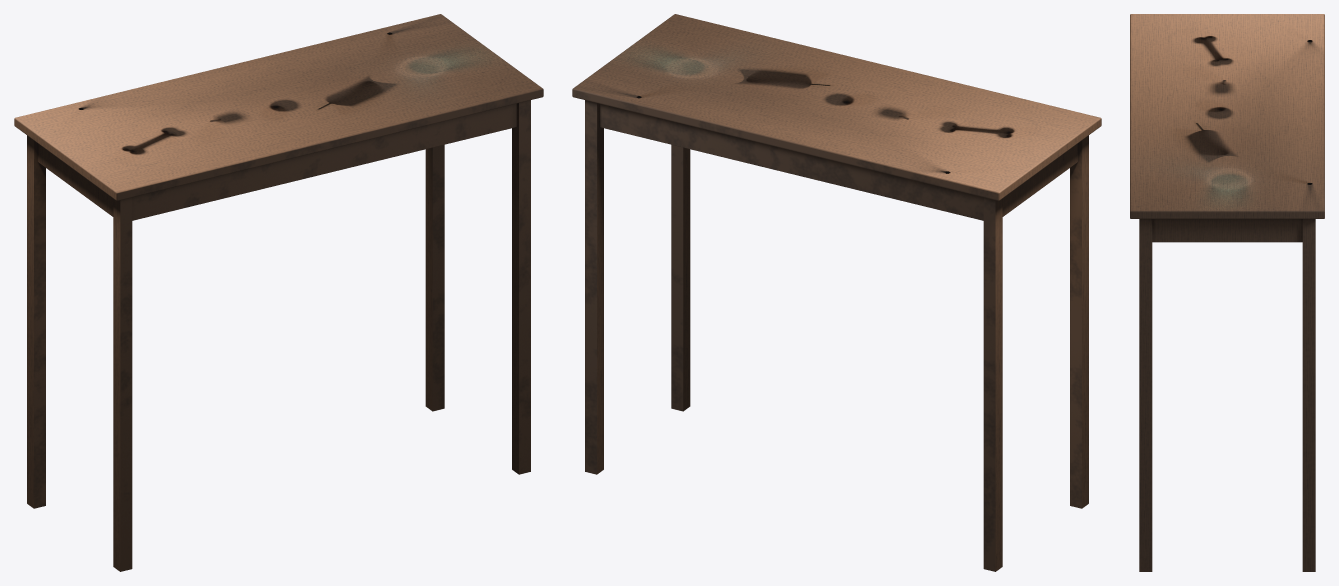
The model's file is 805_life.glb.
3 renders of one model, left to right at view 1: azimuth 30°, elevation 25°; view 2: azimuth 150°, elevation 25°; view 3: azimuth 270°, elevation 25°, orthographic. The views are drawn at different scales.
Parts seen in each view (by area): view 1: Table; view 2: Table; view 3: Table.
Boxes of the visible parts, bbox=[...] form: Table: bbox=[14, 14, 543, 571]; Table: bbox=[572, 14, 1101, 571]; Table: bbox=[1130, 14, 1324, 571].
Size of what is drawn, in the model's own units: 3.6 by 3.1 by 1.5.
Materials: 1 (1 with a texture image).
